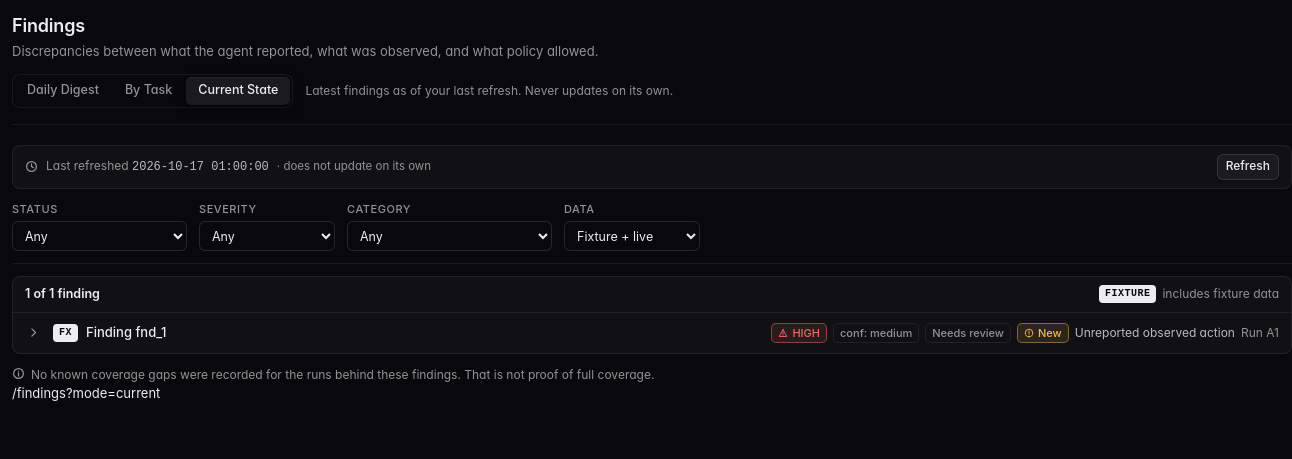
Test case: Current State › says "No changes" when the snapshot is identical and "N new, M updated" when it changed
The image size is (1292, 459).
Check: the link "Finding fnd_1" is shown, box 86,324 -> 166,340
Click the button "Refresh".
click(1248, 166)  # box 1217,154 -> 1279,180
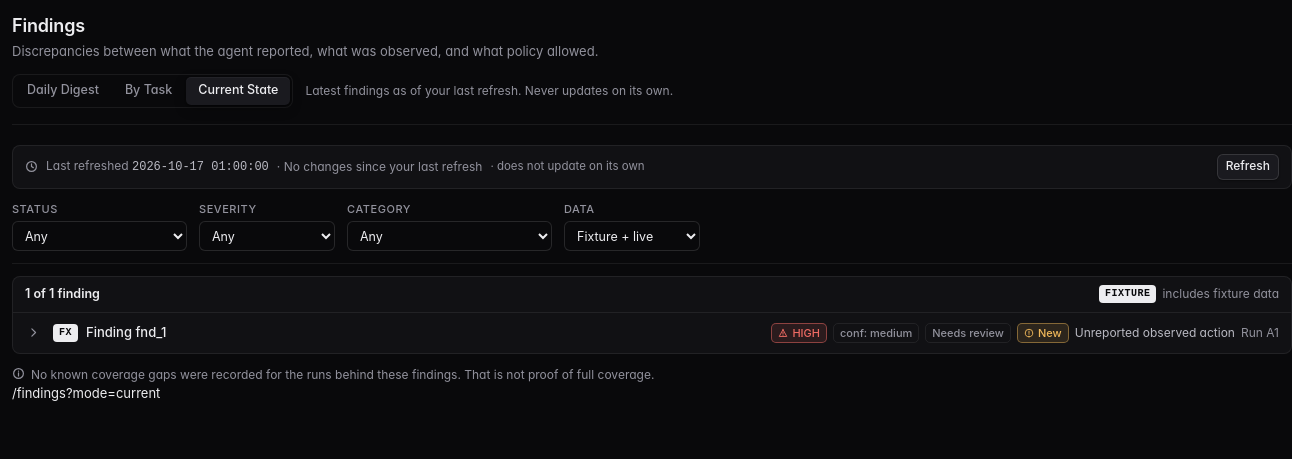
Check: the text "· No changes since your last refresh" is shown, box 277,158 -> 482,176
Click the button "Refresh".
click(1248, 166)  # box 1217,154 -> 1279,180
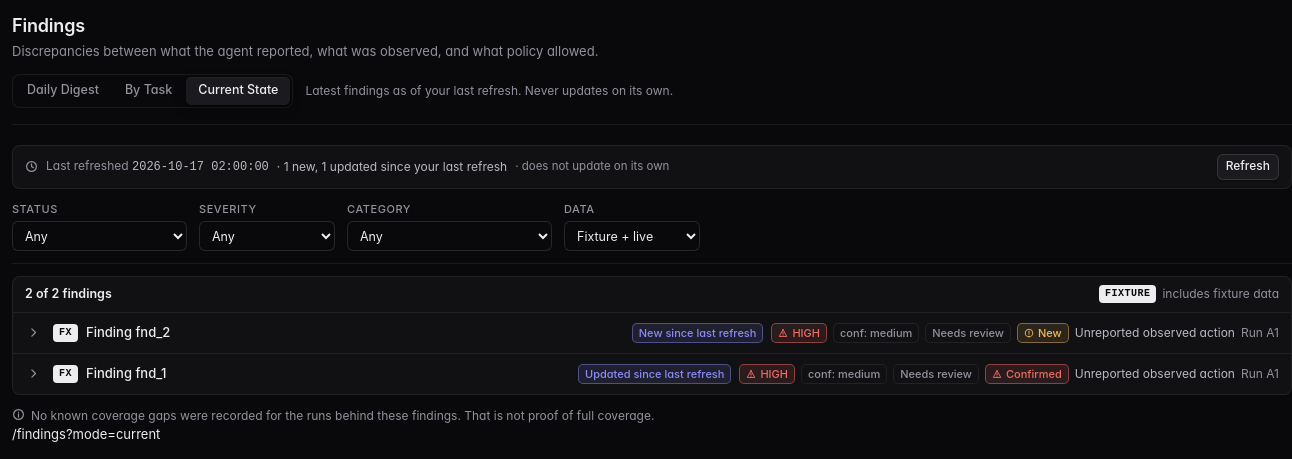
Check: the text "· 1 new, 1 updated since your last refresh" is shown, box 277,158 -> 507,176
Check: the link "Finding fnd_2" is shown, box 86,324 -> 170,340
Check: the text "New since last refresh" is shown, box 632,323 -> 763,343
